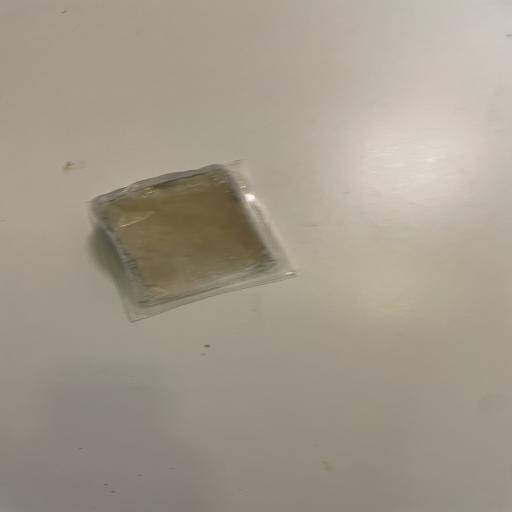cured_goat_cheese: (80, 154, 290, 314)
